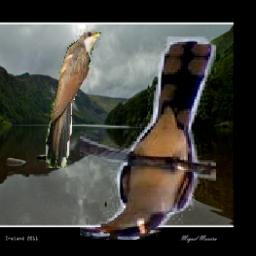Cuckoo: (80, 38, 216, 241), (47, 28, 102, 168)
